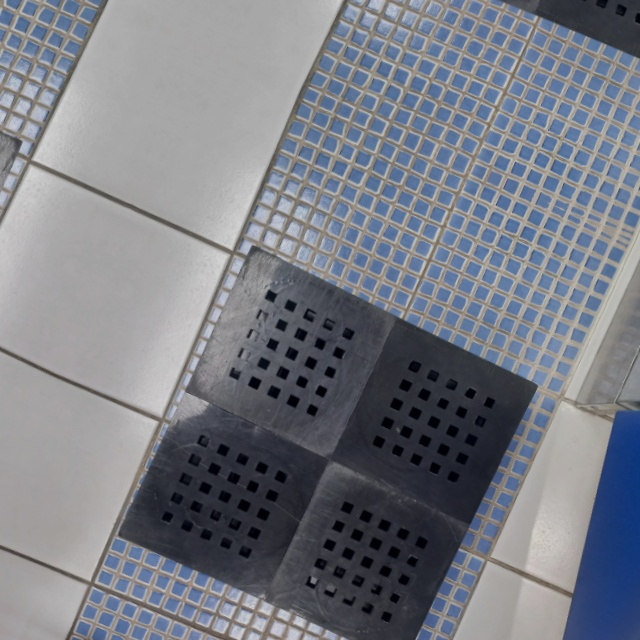pallet: (111, 237, 542, 640)
